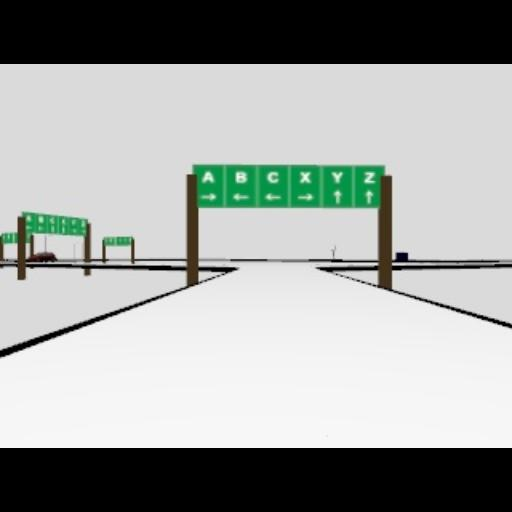A: (202, 170, 216, 184)
B: (236, 172, 248, 184)
C: (266, 172, 280, 184)
Left: (264, 192, 282, 202), (230, 193, 250, 201)
Right: (296, 193, 316, 203), (199, 192, 217, 202)
Straight: (364, 190, 374, 204), (332, 190, 342, 204)
X: (298, 172, 312, 184)
Y: (331, 172, 345, 184)
Z: (363, 171, 377, 185)
